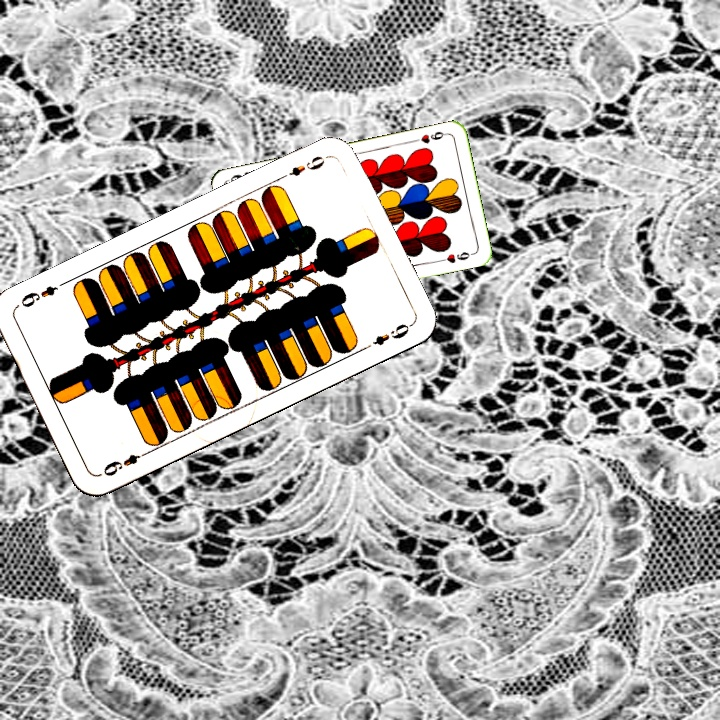E9: (276, 151, 332, 182), (99, 447, 152, 479)
H9: (410, 127, 450, 146)
